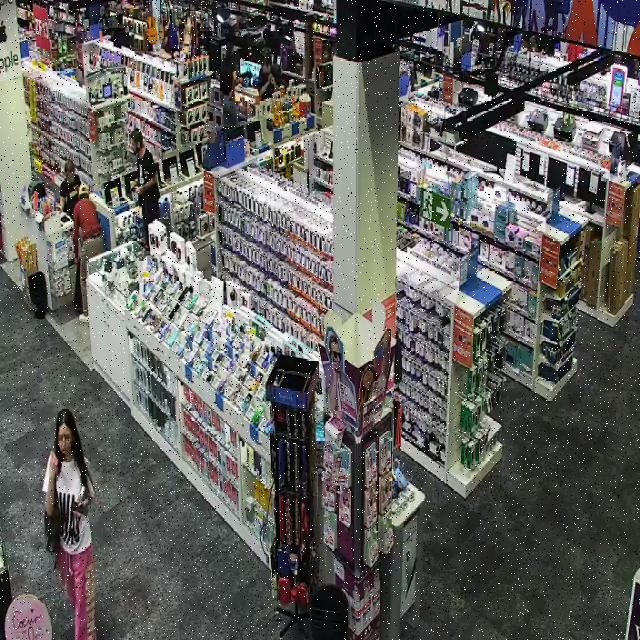bags: (45, 492, 61, 552)
hands: (49, 450, 59, 473), (136, 185, 143, 195)
person: (42, 408, 95, 639), (73, 184, 102, 321), (132, 128, 158, 247)
